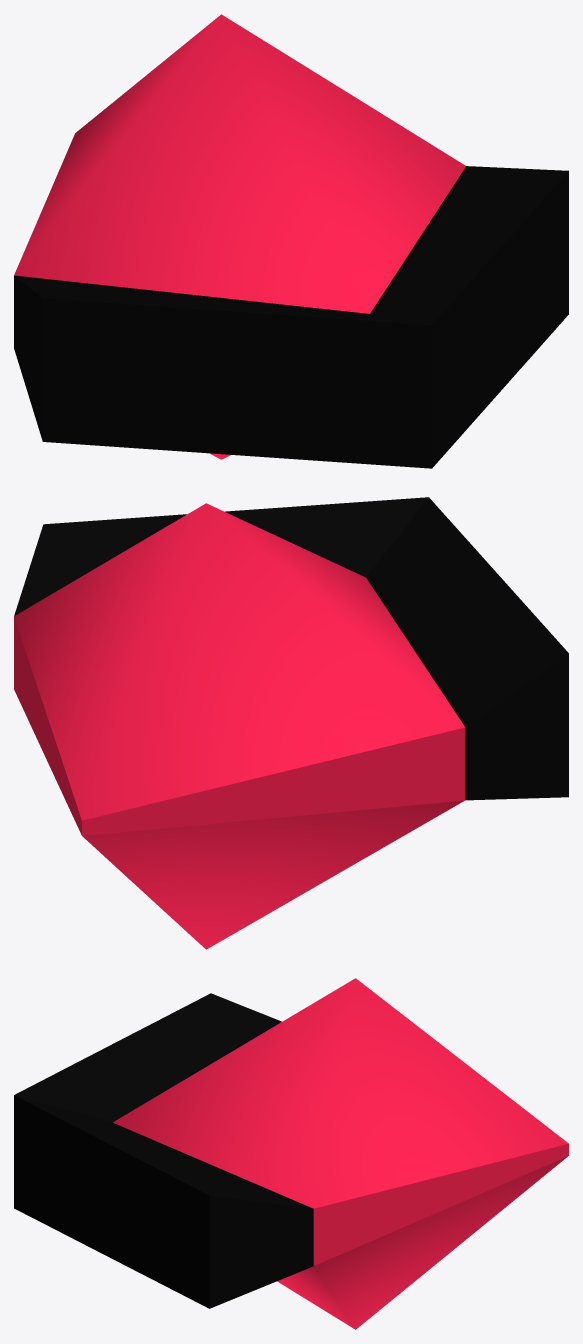
File: spread_node.FBX
3 views of the same model, one above another, from view 1: azimuth 30°, elevation 25°; view 2: azimuth 150°, elevation 25°; view 3: azimuth 270°, elevation 25° (orthographic). The views are drawn at different scales.
Visible parts, largest first — view 1: Object003; view 2: Object003; view 3: Object003.
Boxes of the visible parts, box(x1,y1,x2,y2) form: Object003: box(14, 14, 568, 468); Object003: box(14, 497, 568, 949); Object003: box(14, 978, 568, 1329).
Size of the model in its own units: 114 by 92.49 by 132.
